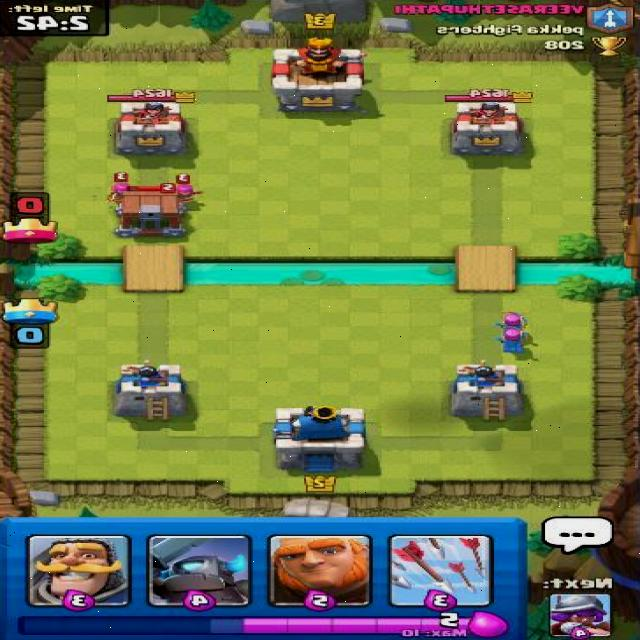Enemy-Archer: (169, 172, 206, 206), (102, 171, 135, 206)
Enemy-GoblinCage: (111, 182, 188, 241)
Player-Archer: (492, 324, 534, 354), (492, 309, 531, 339)
